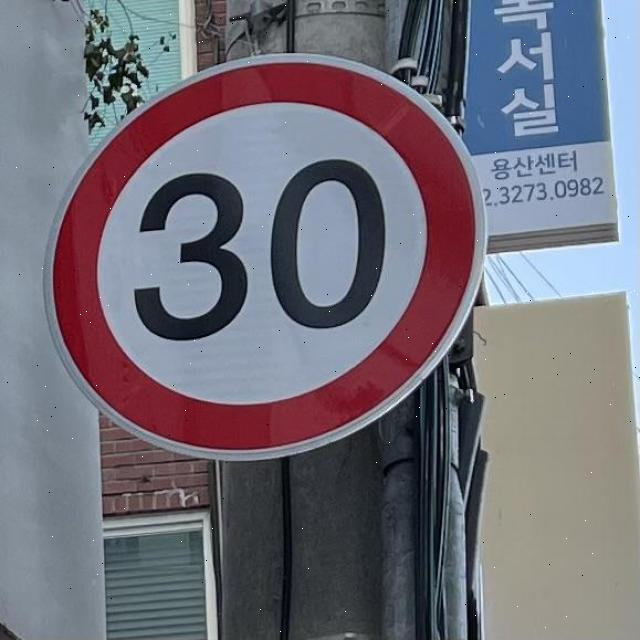speed limit 30: (40, 52, 486, 462)
